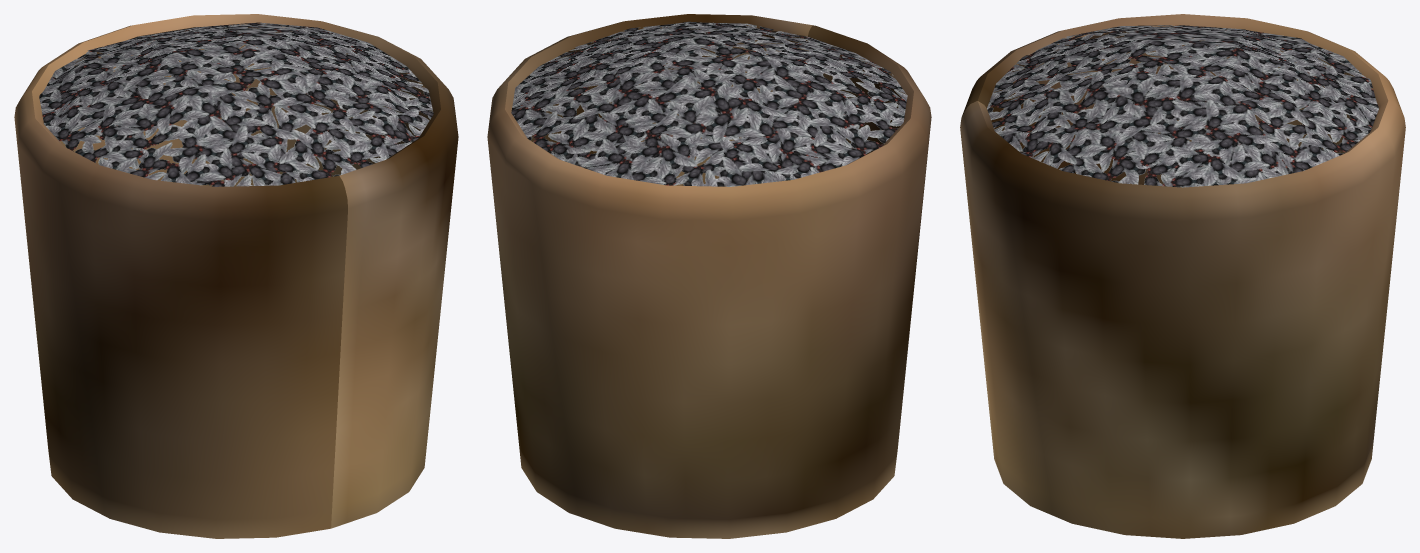
The model's file is Fly Basket.fbx.
The picture shows the model from 3 angles, left to right: view 1: azimuth 30°, elevation 25°; view 2: azimuth 150°, elevation 25°; view 3: azimuth 270°, elevation 25°; orthographic projection.
Visible parts, largest first — view 1: Cylinder, Cylinder.001; view 2: Cylinder, Cylinder.001; view 3: Cylinder, Cylinder.001.
Boxes of the visible parts, x1,y1,x2,y2 form: Cylinder: (14,14,458,538); Cylinder.001: (39,22,433,186); Cylinder: (487,14,931,538); Cylinder.001: (511,21,907,186); Cylinder: (960,14,1405,538); Cylinder.001: (987,25,1378,187).
Size of the model in its own units: 236 by 231 by 236.
